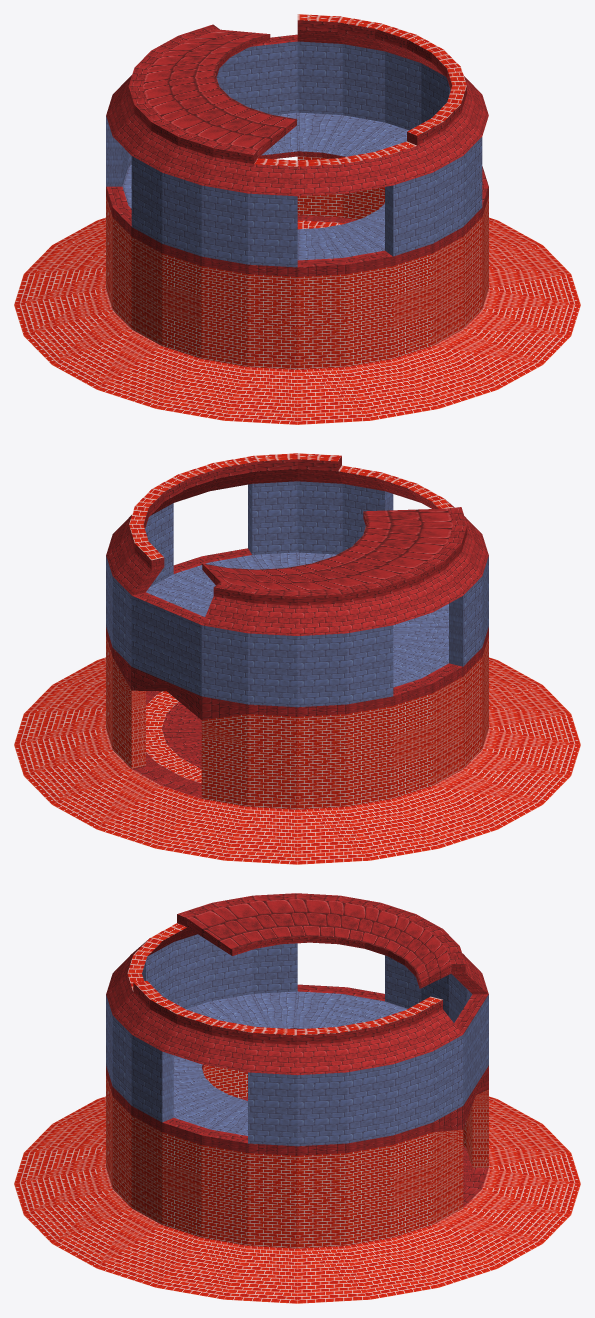
The picture shows the model from 3 angles, top to bottom: view 1: azimuth 30°, elevation 25°; view 2: azimuth 150°, elevation 25°; view 3: azimuth 270°, elevation 25°; orthographic projection.
Visible parts, largest first — view 1: Circle_primitive0, Circle_primitive1, Circle_primitive2; view 2: Circle_primitive0, Circle_primitive2, Circle_primitive1; view 3: Circle_primitive0, Circle_primitive1, Circle_primitive2.
Part boxes in pixels (x1,y1,x2,y2): Circle_primitive0: (14,14,580,424); Circle_primitive1: (106,41,482,267); Circle_primitive2: (106,20,488,276); Circle_primitive0: (14,453,580,864); Circle_primitive2: (106,456,488,798); Circle_primitive1: (106,481,488,707); Circle_primitive0: (14,923,580,1303); Circle_primitive1: (106,934,488,1146); Circle_primitive2: (106,893,488,1207).
Bounding box in the file's own units: 31.23 × 13.37 × 31.23.
Materials: 3 (3 with a texture image).
